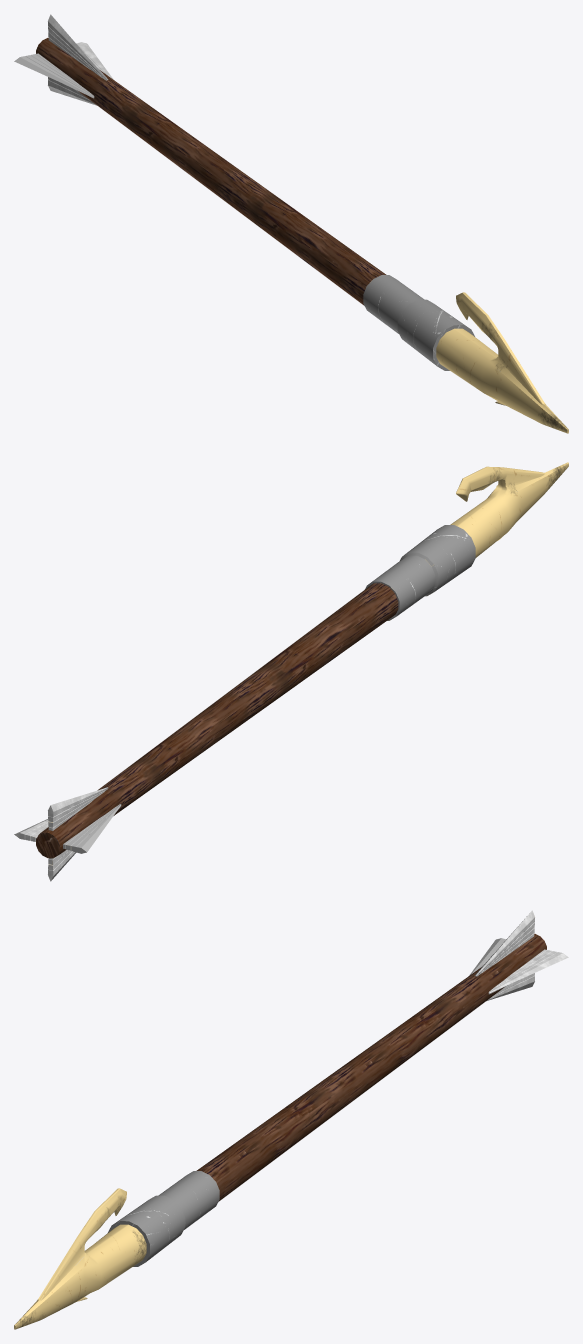
File: harpon.fbx
3 views of the same model, one above another, from view 1: azimuth 30°, elevation 25°; view 2: azimuth 150°, elevation 25°; view 3: azimuth 330°, elevation 25° (orthographic).
Visible parts, largest first — view 1: Harpon_textured; view 2: Harpon_textured; view 3: Harpon_textured.
Part boxes in pixels (x1,y1,x2,y2): Harpon_textured: [14, 14, 568, 433]; Harpon_textured: [14, 462, 568, 881]; Harpon_textured: [14, 910, 568, 1329].
Size of the model in its own units: 5.12 by 6.73 by 63.02.
Materials: 1 (1 with a texture image).
